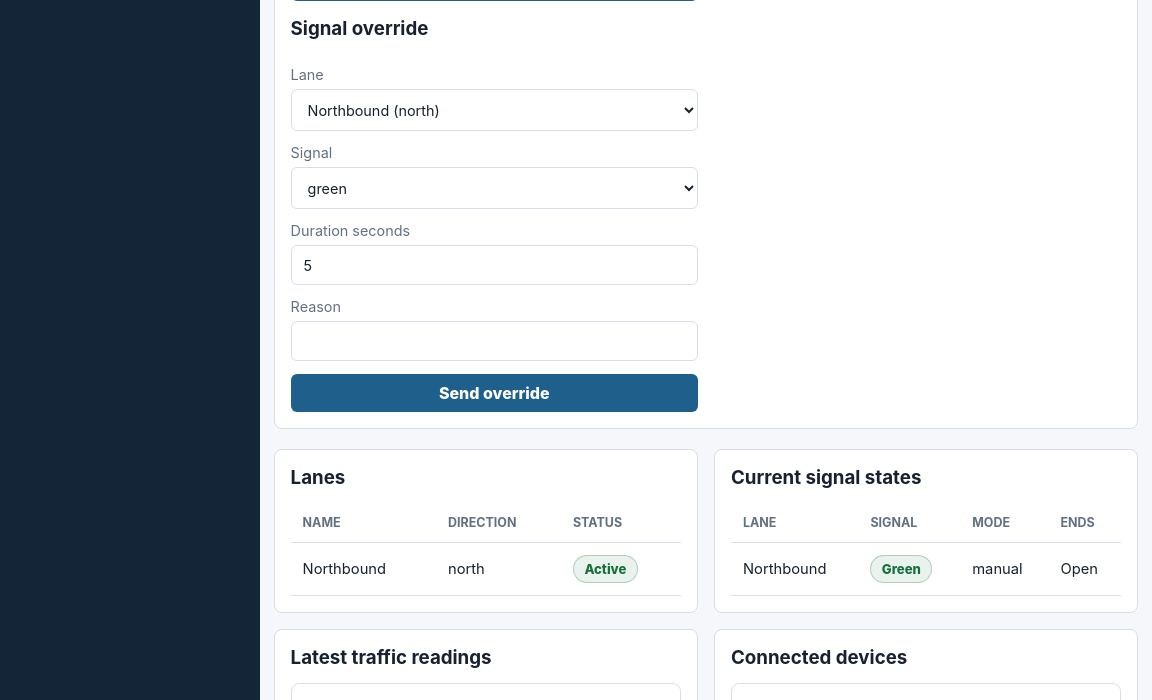
Test: dashboard app › submits a successful signal-control request
(page scrolled)
Type "Clear traffic" into the field labelled "Reason" at [494, 341], box [291,321,698,361]
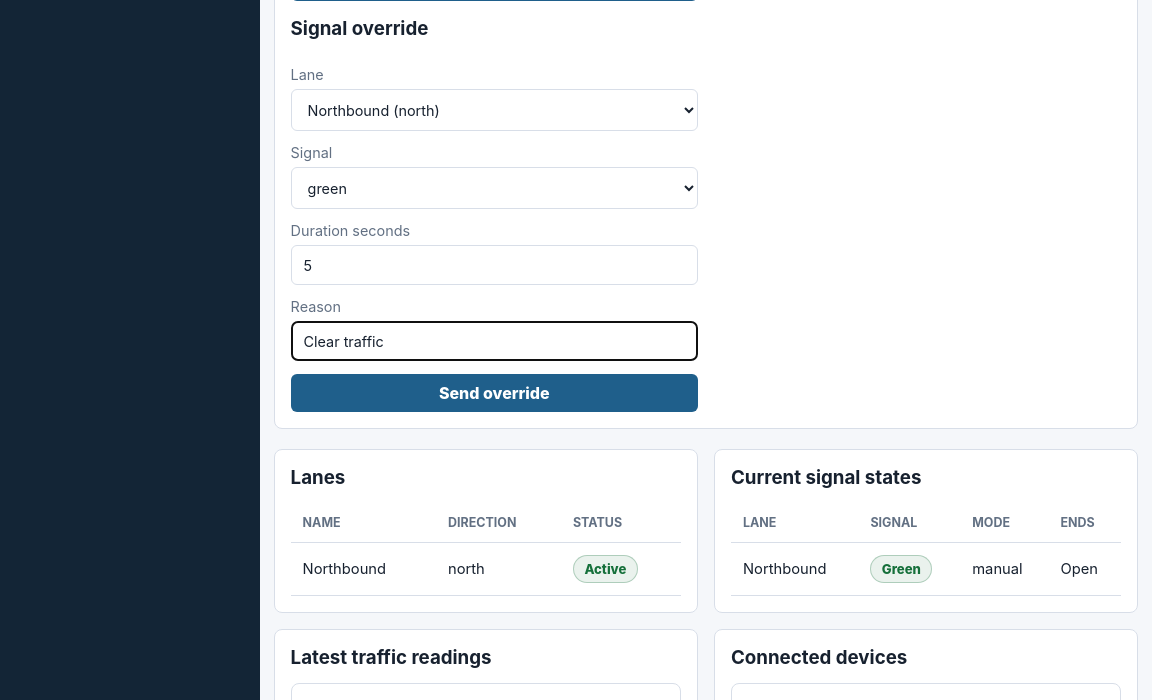
Click the button "Send override" at [494, 393], box [291,374,698,412]
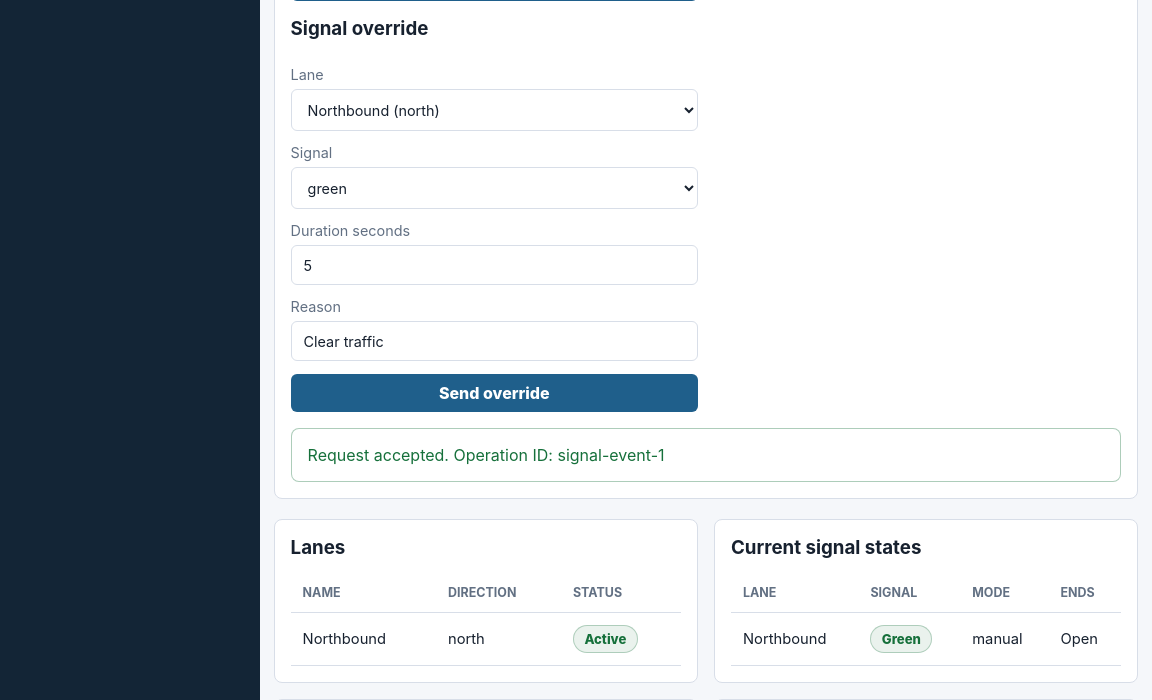
Expected: the text "Request accepted. Operation ID: signal-event-1" is shown, [291,428,1121,482]
